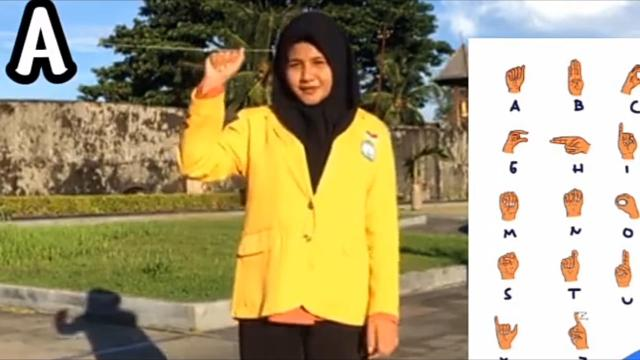A: (205, 45, 248, 87)
